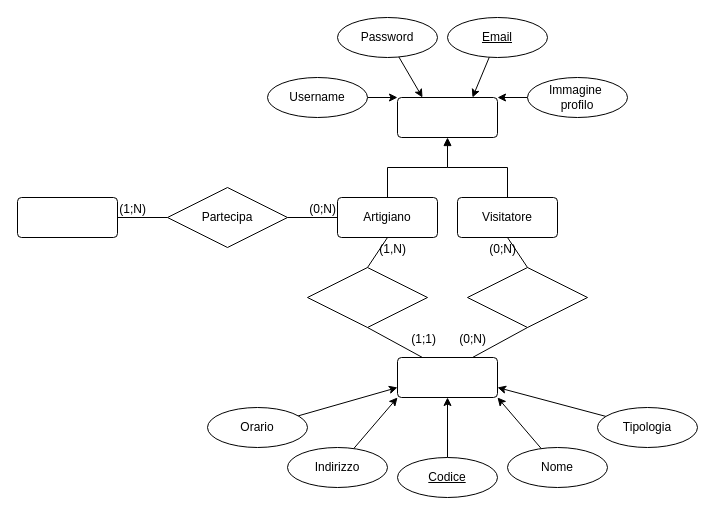
The diagram is 715 pixels wide and 515 high, and some of its shapes have lost their labels. The centre of each missing label's shape, as x and y in pixels:
"Evento" belongs at [67,217].
"Negozio" belongs at [447,377].
"Promuove" belongs at [367,297].
"Salva" belongs at [527,297].
"Utente" belongs at [447,117].
